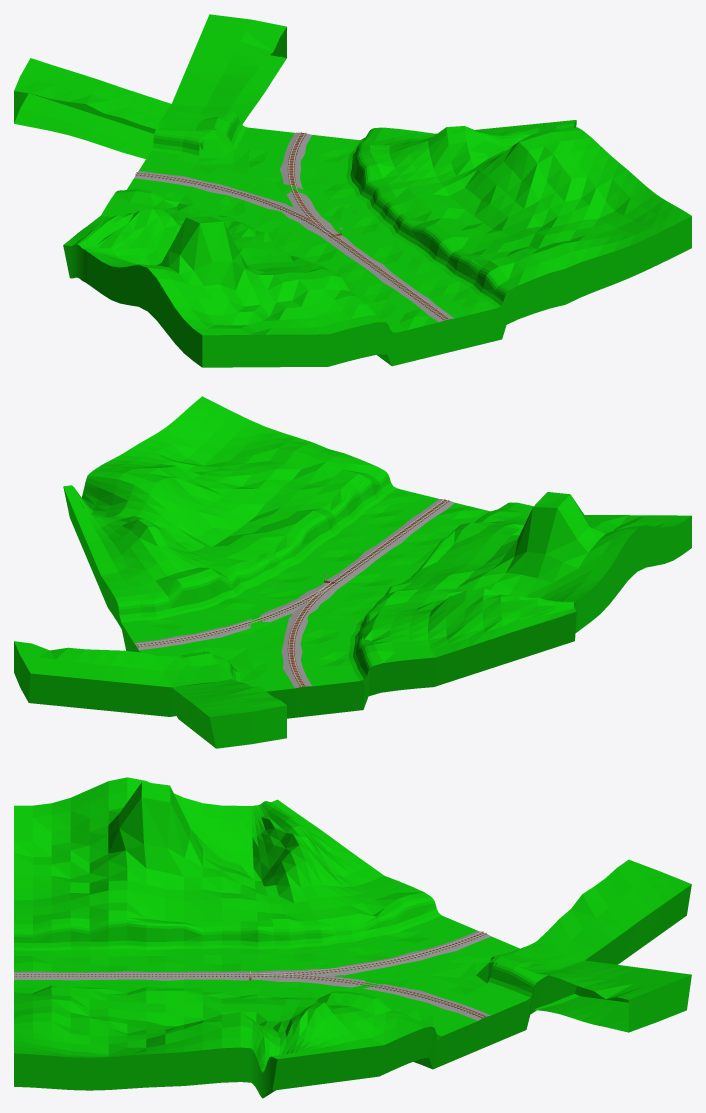
File: grasslands track switch.fbx
3 views of the same model, one above another, from view 1: azimuth 30°, elevation 25°; view 2: azimuth 150°, elevation 25°; view 3: azimuth 270°, elevation 25° (orthographic). The views are drawn at different scales.
Parts seen in each view (by area): view 1: Cube_1_5, Cube_7_4, Cube_3_6, filler, Cube_3_3; view 2: Cube_1_5, Cube_3_6, Cube_7_4, Cube_5_4, filler; view 3: Cube_1_5, Cube_7_4, Cube_3_6, filler, Cube_5_4, Cube_3_3.
Boxes of the visible parts, <box> form: Cube_1_5: <box>93,130,691,367</box>; Cube_7_4: <box>14,58,582,249</box>; Cube_3_6: <box>63,14,375,287</box>; filler: <box>197,129,249,175</box>; Cube_3_3: <box>135,172,334,235</box>; Cube_1_5: <box>93,396,691,627</box>; Cube_3_6: <box>14,571,582,718</box>; Cube_7_4: <box>63,470,377,748</box>; Cube_5_4: <box>135,582,331,646</box>; filler: <box>203,646,252,672</box>; Cube_1_5: <box>14,777,240,1090</box>; Cube_7_4: <box>240,859,691,1098</box>; Cube_3_6: <box>240,799,691,1032</box>; filler: <box>425,954,499,988</box>; Cube_5_4: <box>250,973,486,1017</box>; Cube_3_3: <box>251,931,486,975</box>.
Bounding box in the file's own units: 3251 × 783 × 3587.
